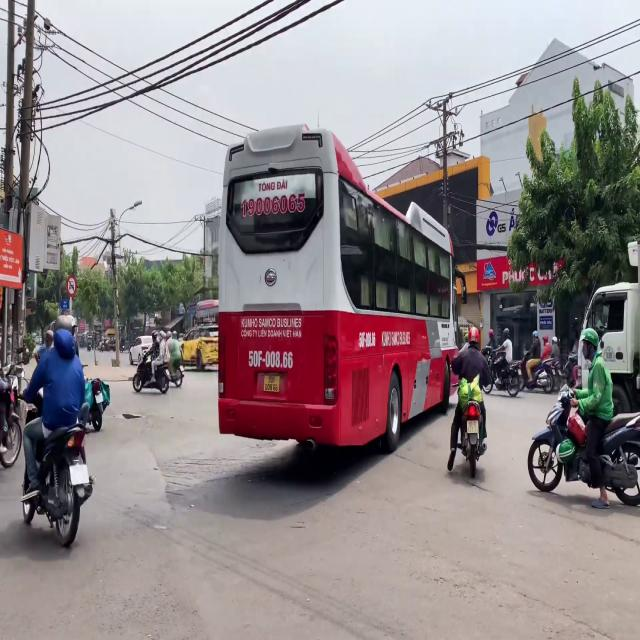bien_vang: (264, 374, 280, 394)
